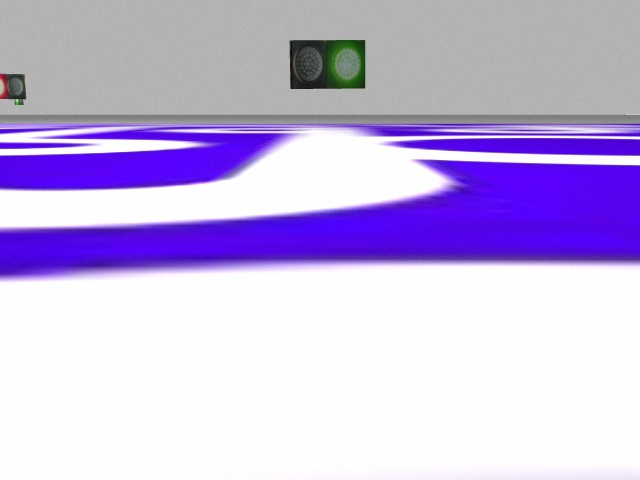green: (327, 40, 366, 89)
